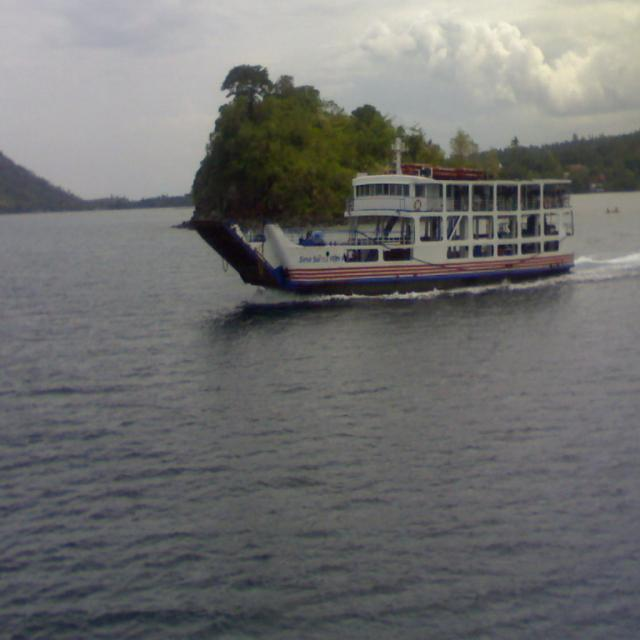houseboat: (171, 138, 584, 301)
